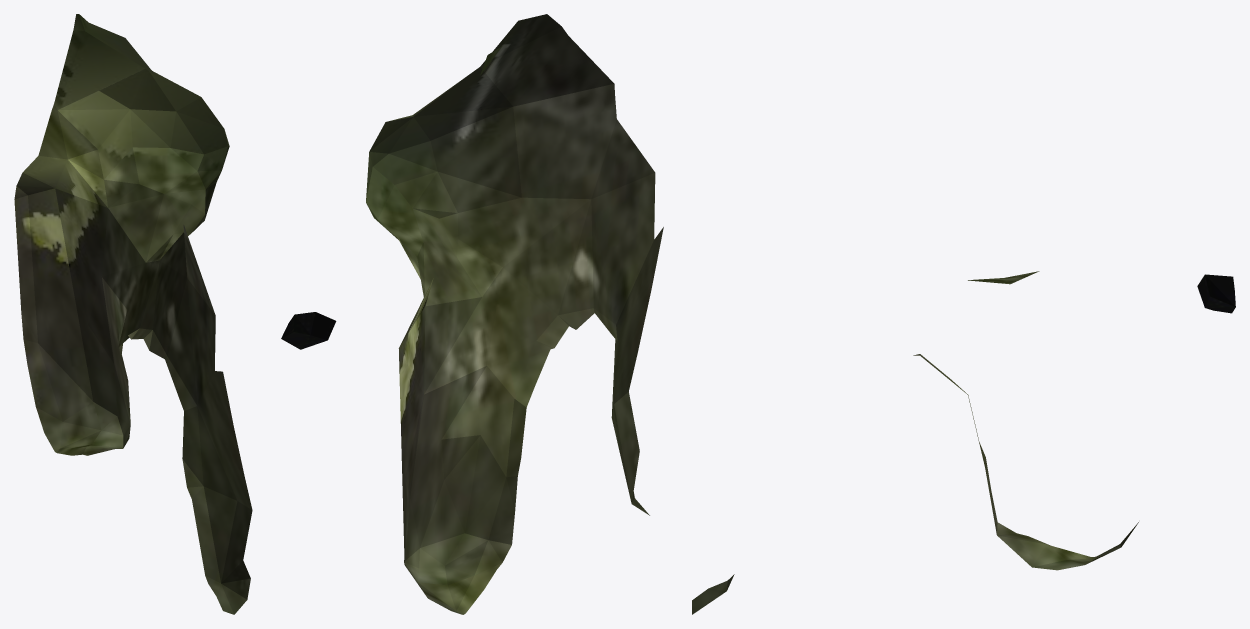
3 views of the same model, side by side, from view 1: azimuth 30°, elevation 25°; view 2: azimuth 150°, elevation 25°; view 3: azimuth 270°, elevation 25° (orthographic). The views are drawn at different scales.
Bounding box in the file's own units: 0.683 × 2.6 × 2.15.
Materials: 1 (1 with a texture image).
